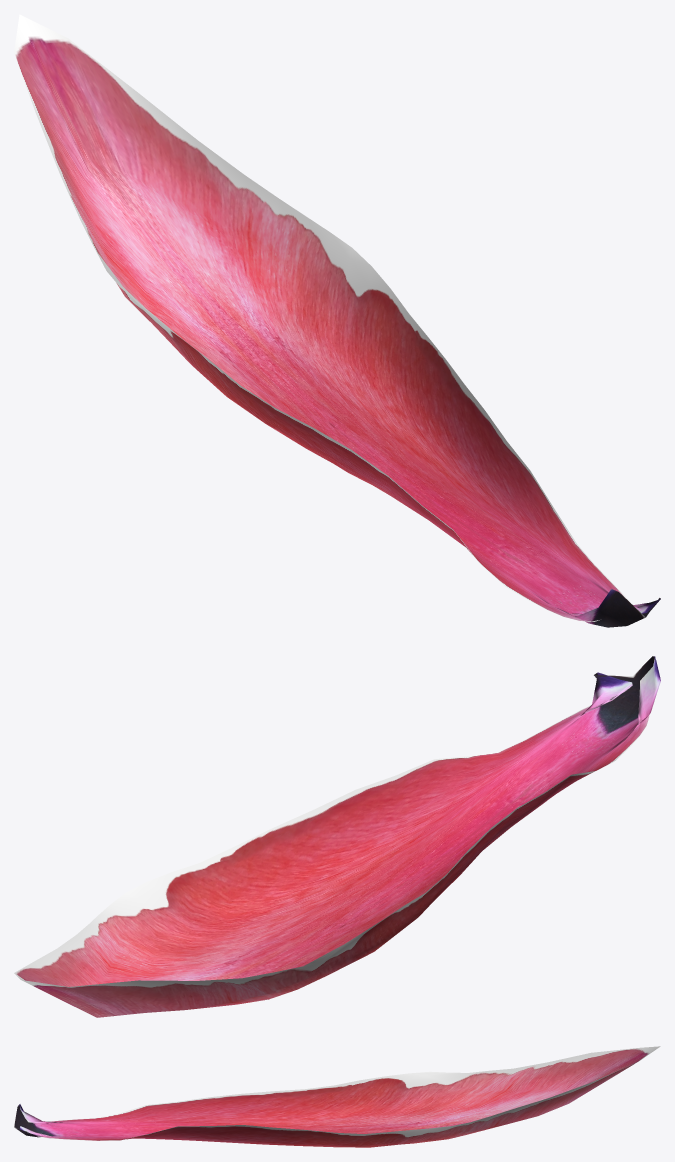
Rendered from petal.glb.
3 renders of one model, top to bottom at view 1: azimuth 30°, elevation 25°; view 2: azimuth 150°, elevation 25°; view 3: azimuth 270°, elevation 25°, orthographic. The views are drawn at different scales.
Visible parts, largest first — view 1: Dahlia Petal.001; view 2: Dahlia Petal.001; view 3: Dahlia Petal.001.
Part boxes in pixels (<box>): Dahlia Petal.001: <box>14,14,660,627</box>; Dahlia Petal.001: <box>14,656,660,1017</box>; Dahlia Petal.001: <box>14,1046,660,1147</box>.
Size of the model in its own units: 0.7645 by 0.6064 by 3.76.
1 material, 1 textured.
